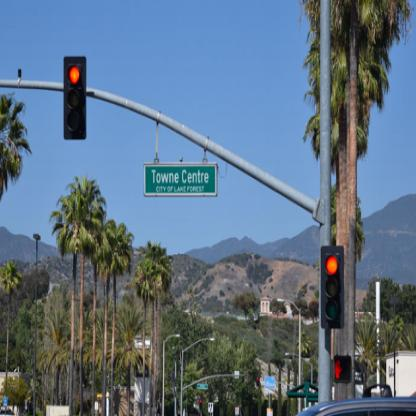red: (321, 245, 345, 329), (64, 56, 87, 140)
